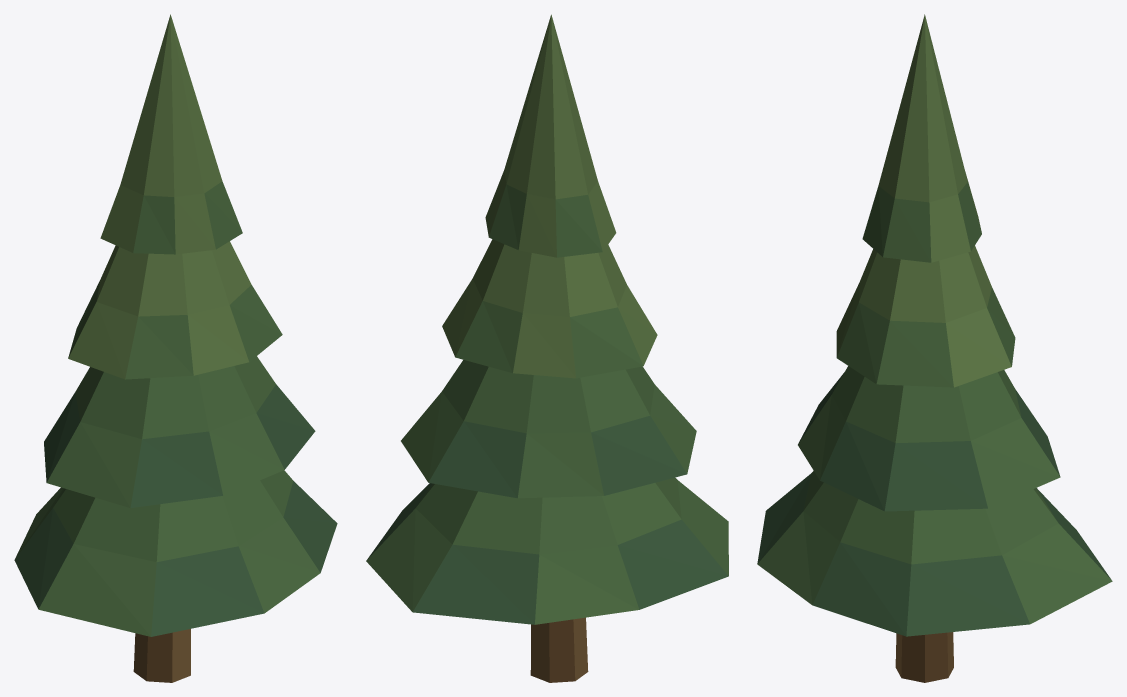
Rendered from pine-tall.glb.
The picture shows the model from 3 angles, left to right: view 1: azimuth 30°, elevation 25°; view 2: azimuth 150°, elevation 25°; view 3: azimuth 270°, elevation 25°; orthographic projection.
Visible parts, largest first — view 1: pine-tall; view 2: pine-tall; view 3: pine-tall.
Part boxes in pixels (x1,y1,x2,y2): pine-tall: [14, 14, 337, 682]; pine-tall: [366, 14, 728, 682]; pine-tall: [757, 14, 1112, 682].
Size of the model in its own units: 1.09 by 2.18 by 1.07.
